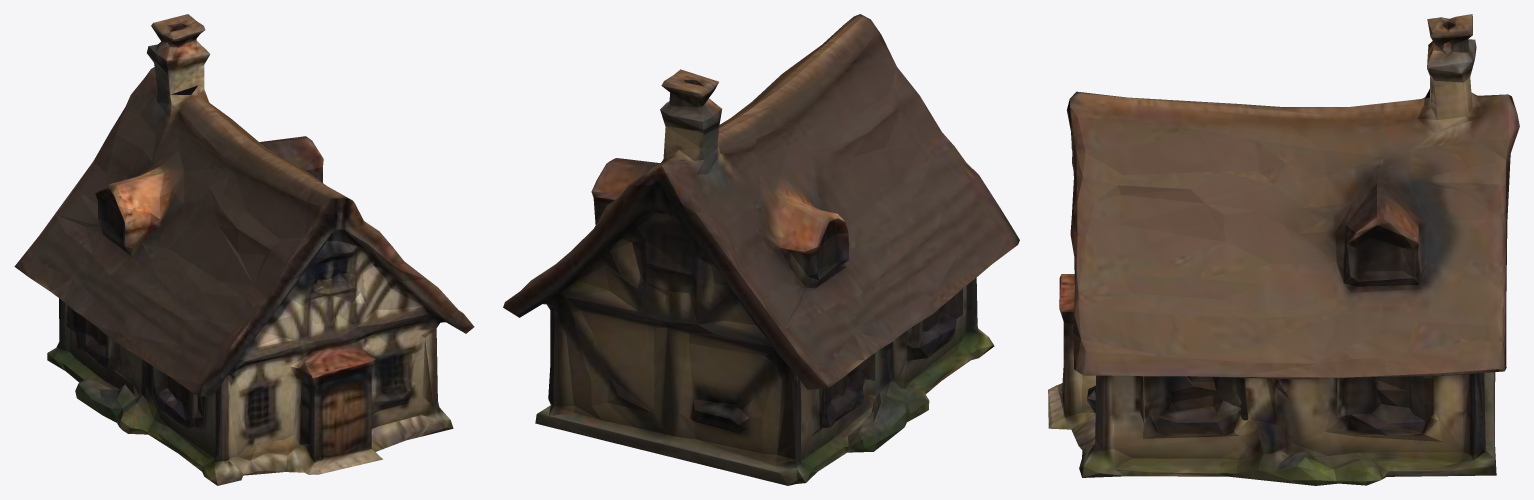
File: house_dark_roof_lod1.glb
The picture shows the model from 3 angles, left to right: view 1: azimuth 30°, elevation 25°; view 2: azimuth 150°, elevation 25°; view 3: azimuth 270°, elevation 25°; orthographic projection. The views are drawn at different scales.
Parts seen in each view (by area): view 1: house_dark_roof_lod1; view 2: house_dark_roof_lod1; view 3: house_dark_roof_lod1.
Part boxes in pixels (box(x1,y1,x2,y2)): house_dark_roof_lod1: box(14, 14, 474, 485); house_dark_roof_lod1: box(503, 14, 1019, 485); house_dark_roof_lod1: box(1048, 14, 1519, 485).
Bounding box in the file's own units: 6.08 × 6.48 × 7.16.
1 material, 1 textured.
